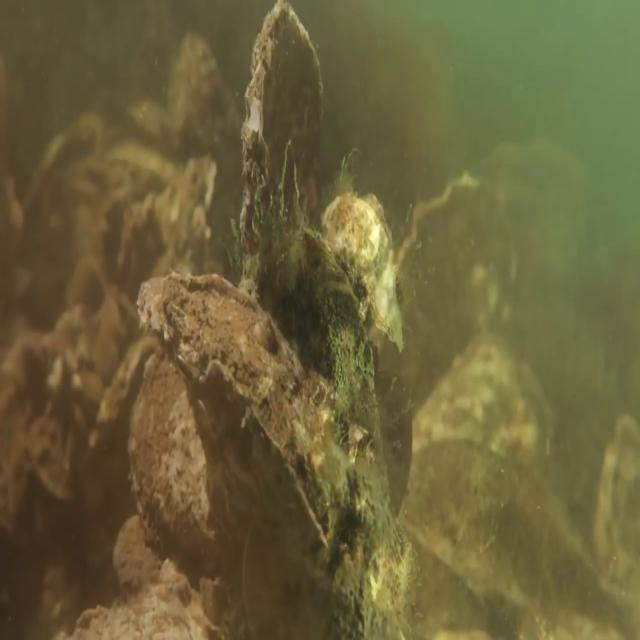Oyster-Closed: (238, 0, 323, 289), (314, 189, 405, 359)
Oyster-Indeterminate: (131, 251, 372, 562), (279, 226, 415, 639), (124, 353, 251, 559)
